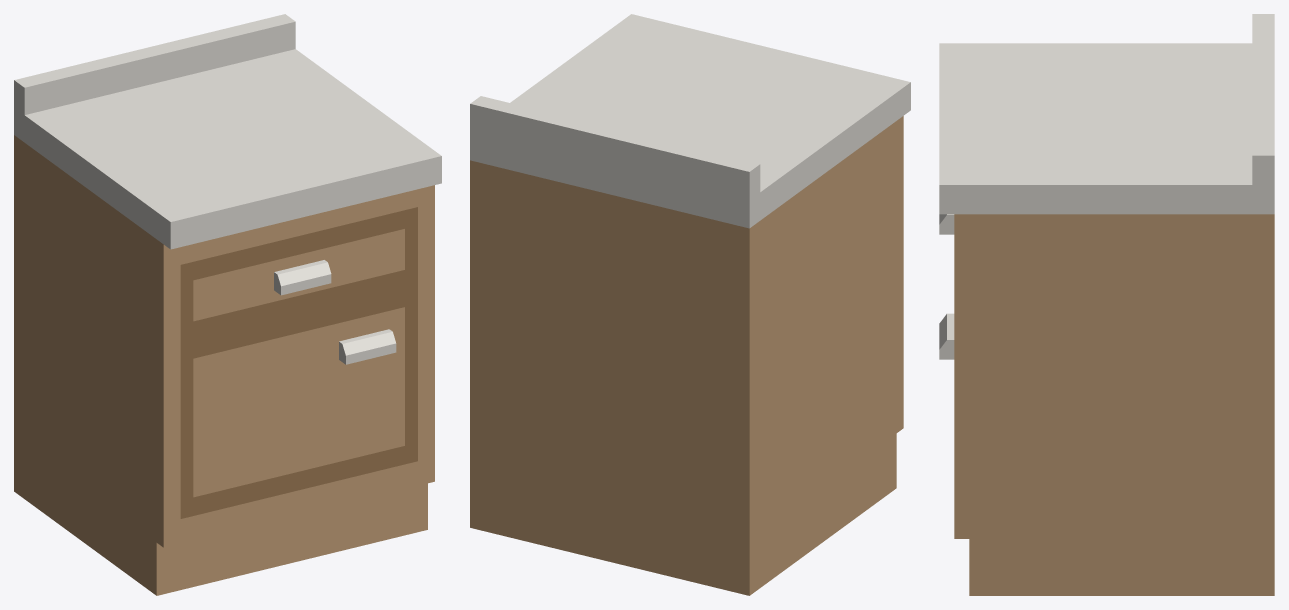
The model's file is kitchen-base-drawers.glb.
The picture shows the model from 3 angles, left to right: view 1: azimuth 30°, elevation 25°; view 2: azimuth 150°, elevation 25°; view 3: azimuth 270°, elevation 25°; orthographic projection. The views are drawn at different scales.
Parts seen in each view (by area): view 1: kitchen-base-drawers; view 2: kitchen-base-drawers; view 3: kitchen-base-drawers.
Part boxes in pixels (bbox=[...]): kitchen-base-drawers: bbox=[14, 14, 441, 595]; kitchen-base-drawers: bbox=[470, 14, 910, 595]; kitchen-base-drawers: bbox=[939, 14, 1274, 595].
Size of the model in its own units: 0.6 by 0.87 by 0.6.
